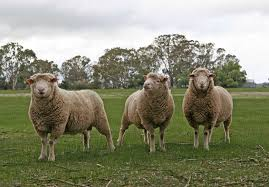sheep: (22, 72, 120, 165), (122, 71, 173, 157), (185, 61, 234, 147)
